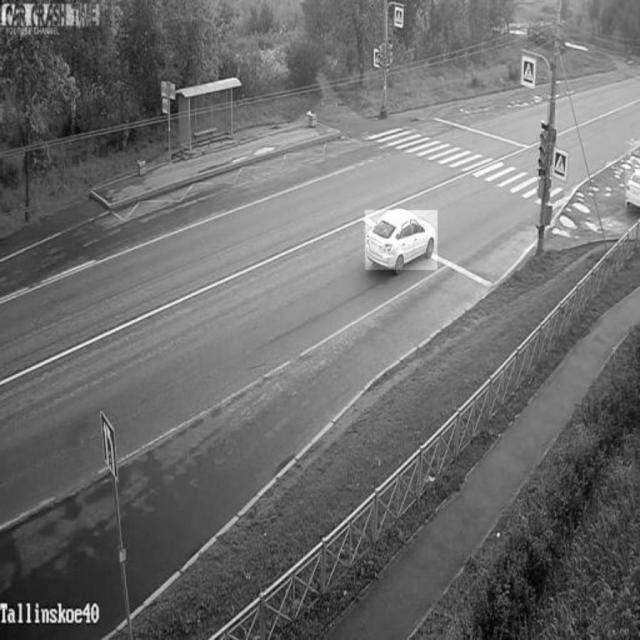vehicle: (365, 210, 438, 271), (625, 160, 640, 211)
